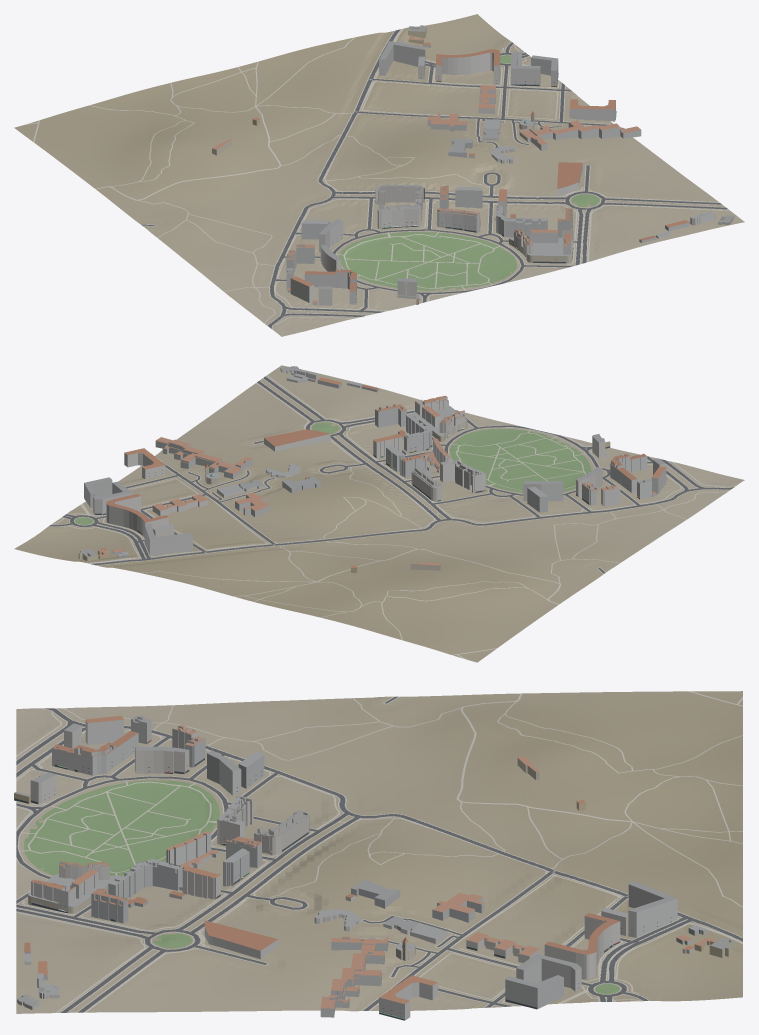
3 renders of one model, top to bottom at view 1: azimuth 30°, elevation 25°; view 2: azimuth 150°, elevation 25°; view 3: azimuth 270°, elevation 25°, orthographic. The views are drawn at different scales.
Parts seen in each view (by area): view 1: Ground, Walls, Sidewalk, Park, Roofs, Road; view 2: Ground, Walls, Sidewalk, Roofs, Road, Park; view 3: Ground, Walls, Sidewalk, Roofs, Park, Road, Detail.
Boxes of the visible parts, x1,y1,x2,y2 form: Ground: (14, 14, 744, 336); Walls: (212, 26, 734, 305); Sidewalk: (24, 28, 730, 329); Park: (339, 55, 599, 290); Roofs: (212, 25, 733, 302); Road: (141, 29, 728, 328); Ground: (14, 365, 744, 662); Walls: (78, 368, 668, 573); Sidewalk: (48, 375, 735, 659); Roofs: (79, 366, 667, 567); Road: (49, 376, 734, 573); Park: (75, 422, 591, 524); Ground: (16, 691, 742, 1013); Walls: (14, 716, 735, 1020); Sidewalk: (16, 691, 742, 1012); Roofs: (14, 715, 735, 1008); Park: (24, 780, 619, 993); Road: (16, 696, 742, 1012); Detail: (14, 739, 671, 1020).
Bounding box in the file's own units: 1034 × 68.25 × 1006.
